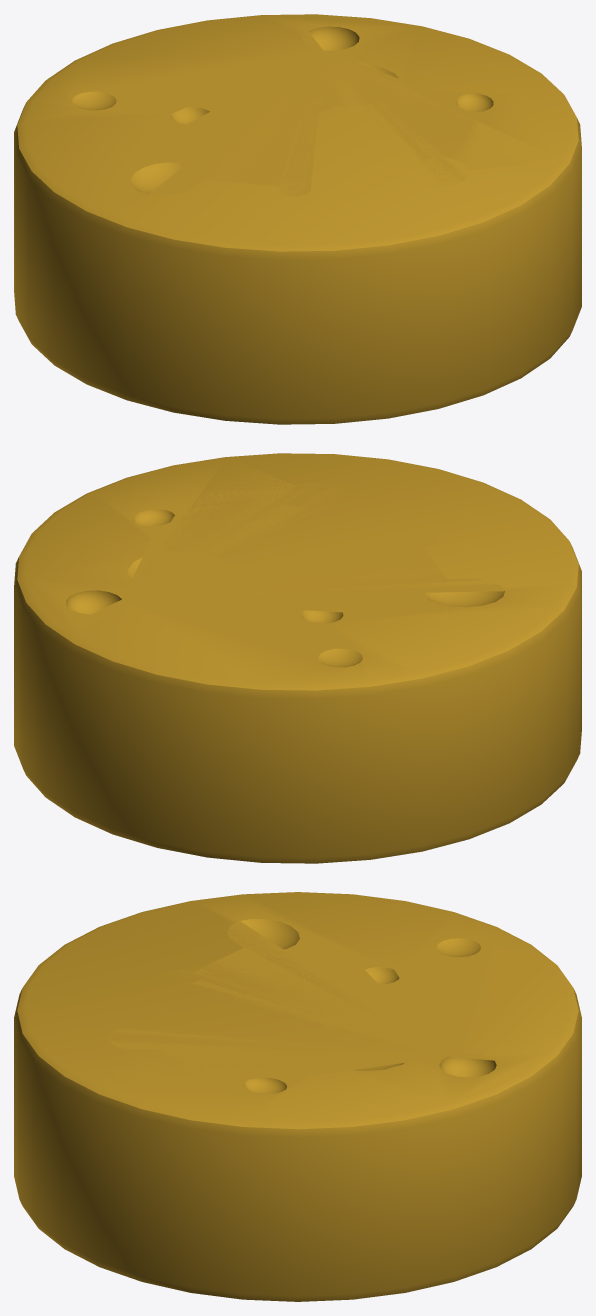
Rendered from round_cheese.fbx.
The picture shows the model from 3 angles, top to bottom: view 1: azimuth 30°, elevation 25°; view 2: azimuth 150°, elevation 25°; view 3: azimuth 270°, elevation 25°; orthographic projection.
Parts seen in each view (by area): view 1: round_cheese; view 2: round_cheese; view 3: round_cheese.
Part boxes in pixels (x1,y1,x2,y2): round_cheese: [14, 14, 581, 424]; round_cheese: [14, 453, 581, 863]; round_cheese: [14, 892, 581, 1301].
Size of the model in its own units: 278 by 96.56 by 278.
